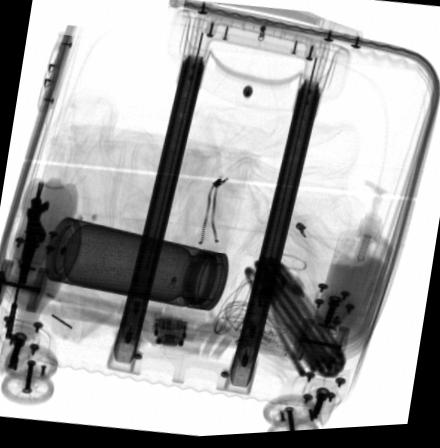Gun: (5, 181, 50, 342)
